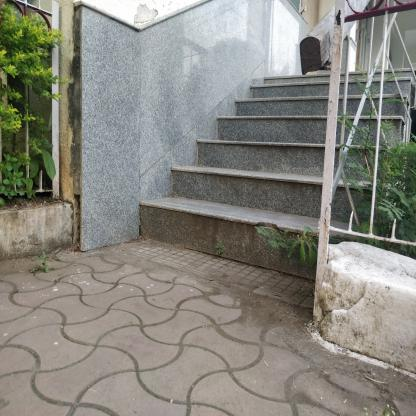stairs: (166, 162, 320, 302)
